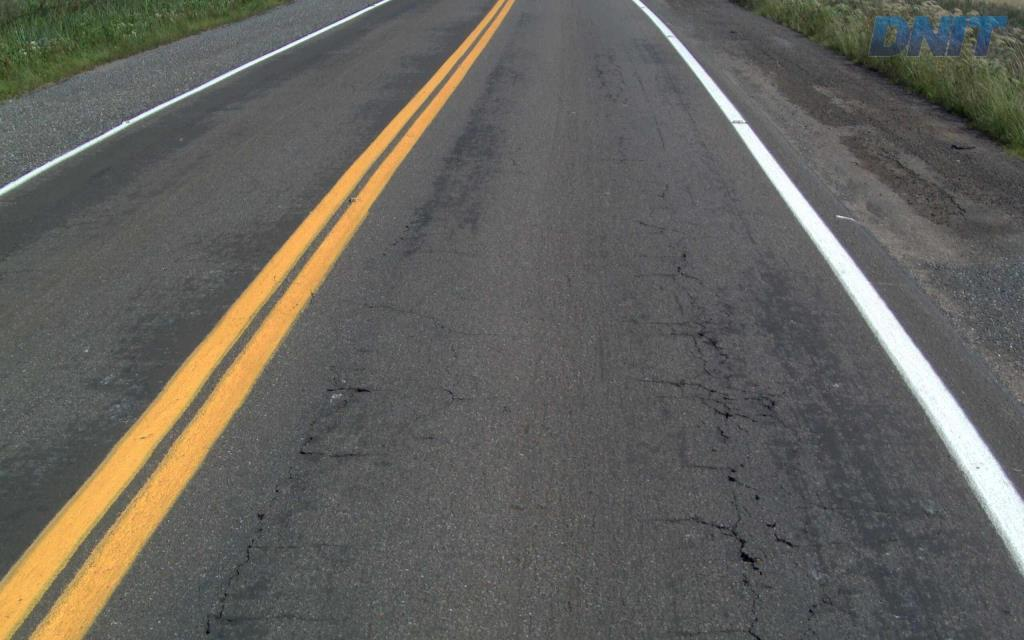crack: (711, 522, 762, 575)
